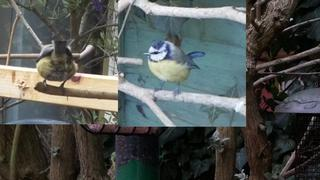blue tit: (143, 40, 206, 100), (36, 40, 78, 96)
